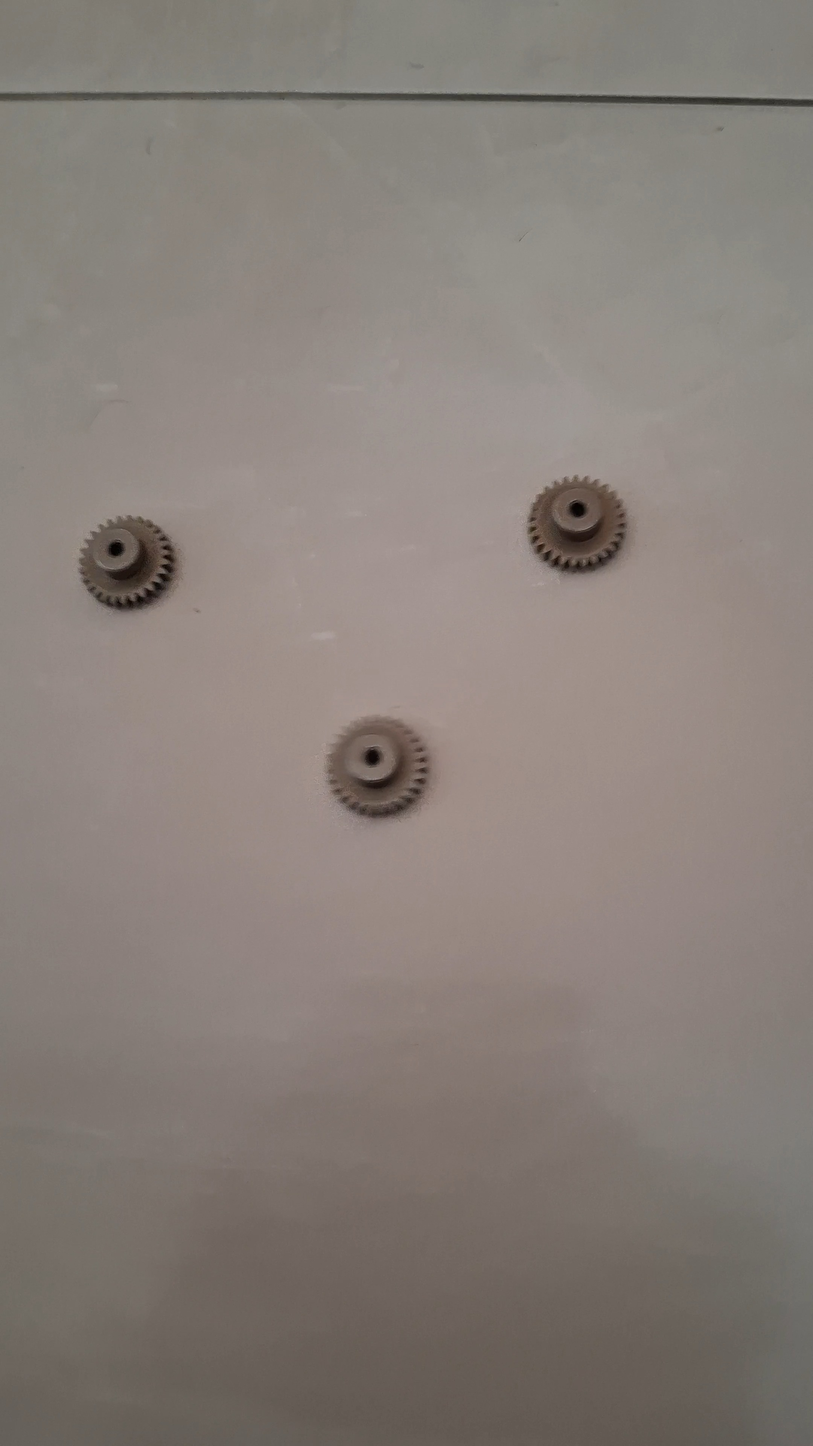spur gear: (327, 717, 428, 816), (528, 478, 626, 569), (80, 517, 174, 607)
